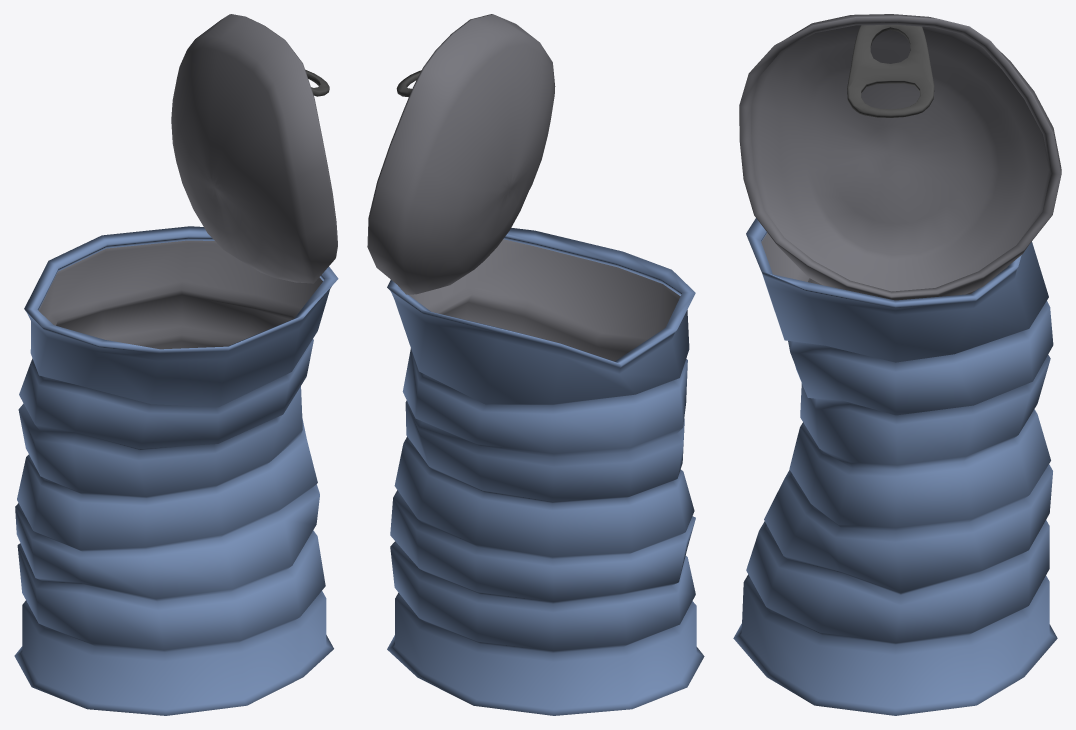
Rendered from LataAzulClara.fbx.
3 views of the same model, side by side, from view 1: azimuth 30°, elevation 25°; view 2: azimuth 150°, elevation 25°; view 3: azimuth 270°, elevation 25° (orthographic). The views are drawn at different scales.
Parts seen in each view (by area): view 1: Lata1Amassado.retopo, Tampa1Aberta.retopo; view 2: Lata1Amassado.retopo, Tampa1Aberta.retopo; view 3: Lata1Amassado.retopo, Tampa1Aberta.retopo.
Boxes of the visible parts, x1,y1,x2,y2 form: Lata1Amassado.retopo: (14, 226, 338, 715); Tampa1Aberta.retopo: (171, 14, 337, 283); Lata1Amassado.retopo: (387, 228, 704, 715); Tampa1Aberta.retopo: (367, 14, 555, 294); Lata1Amassado.retopo: (733, 218, 1057, 715); Tampa1Aberta.retopo: (739, 14, 1061, 300).
Size of the model in its own units: 71.38 by 143 by 63.26.
